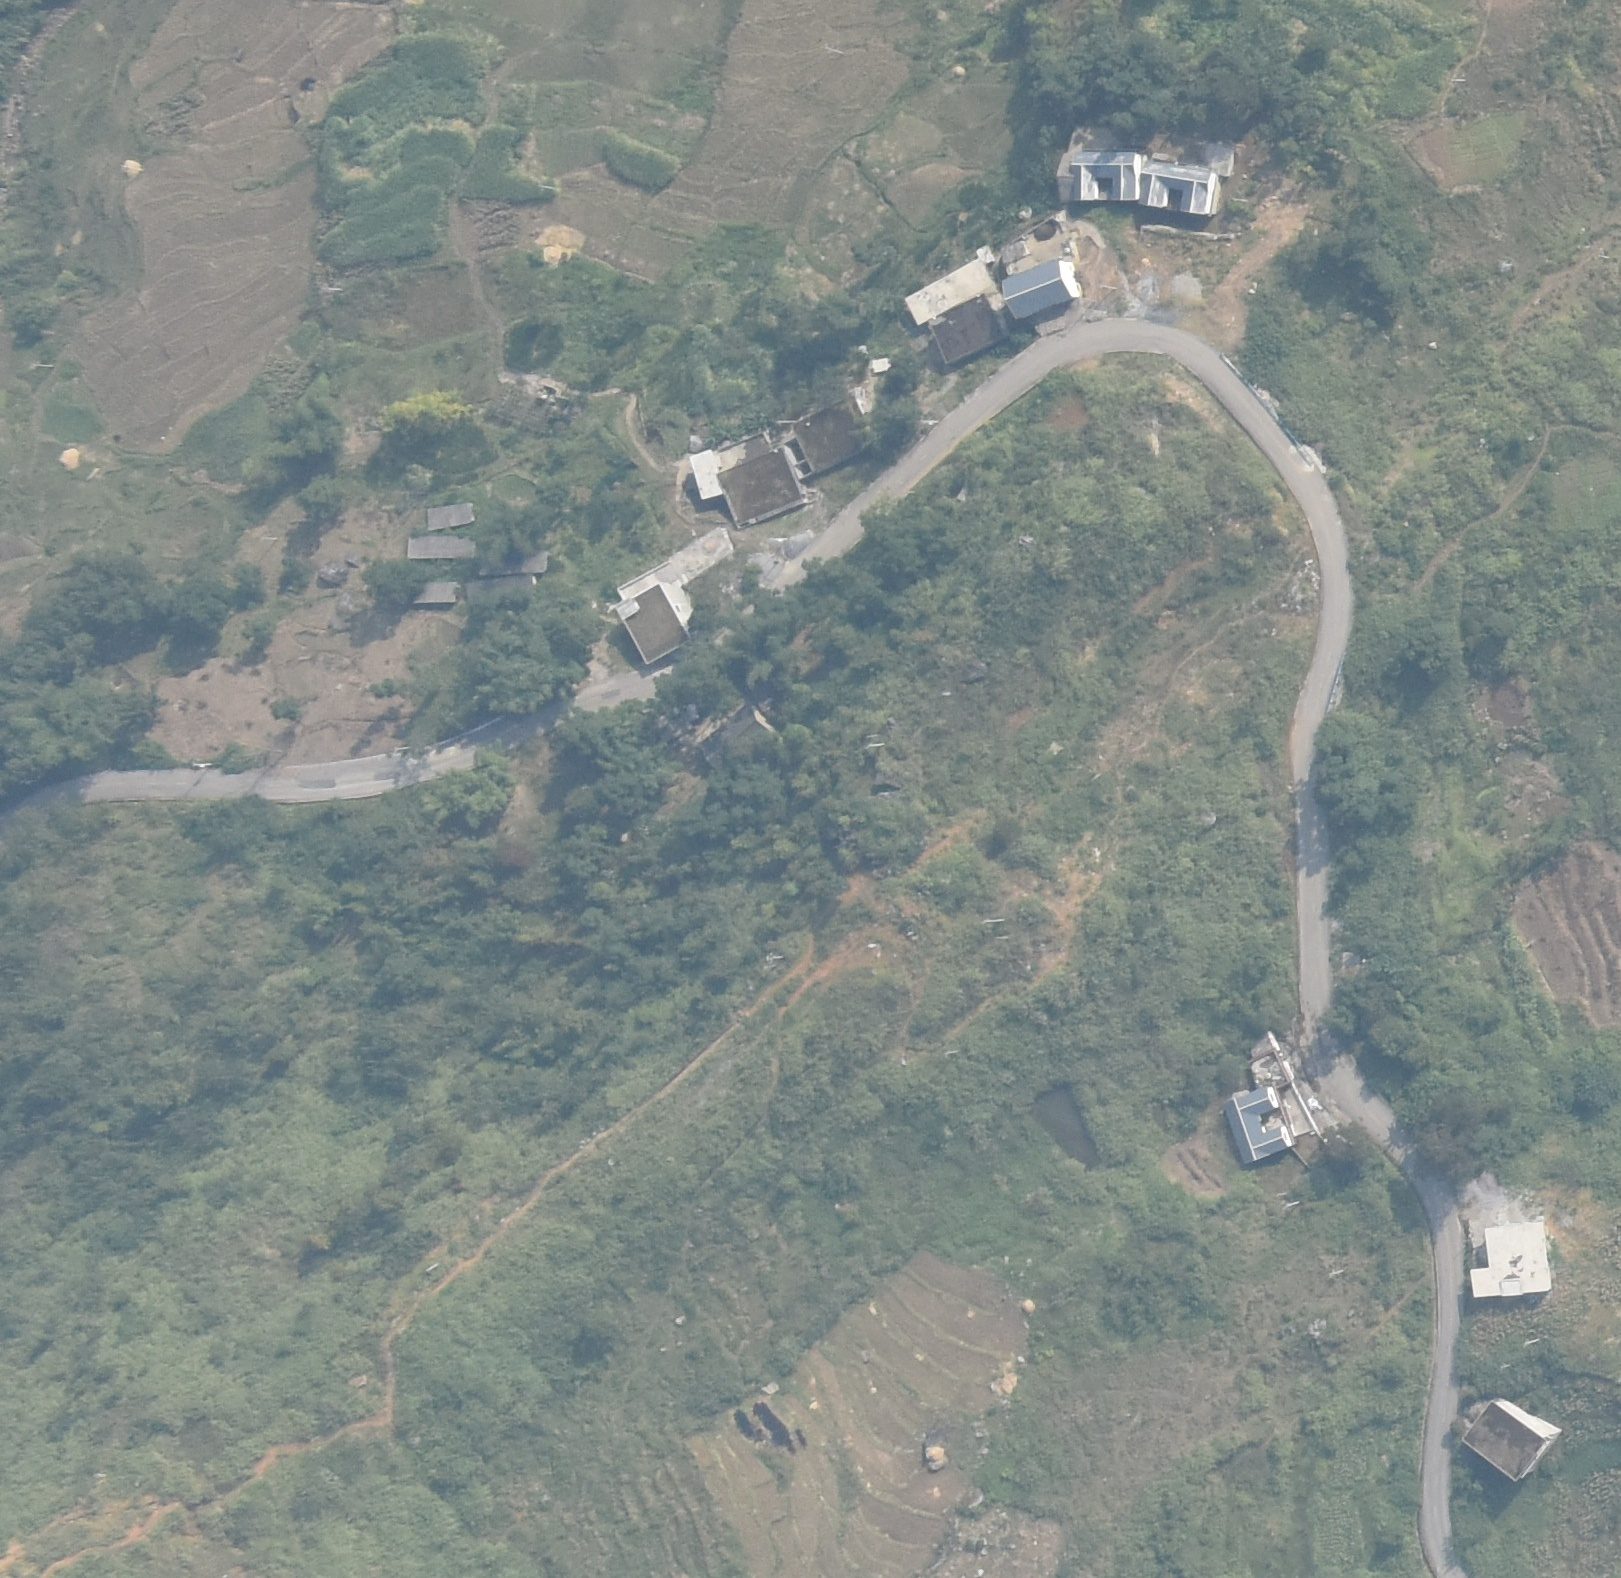building: (686, 434, 813, 540), (1453, 1396, 1565, 1484), (1469, 1218, 1559, 1313), (1222, 1087, 1317, 1168), (693, 698, 795, 772), (787, 397, 881, 471), (622, 582, 701, 664), (923, 300, 1012, 368), (1138, 156, 1223, 224), (999, 258, 1080, 324), (1062, 142, 1145, 207)
